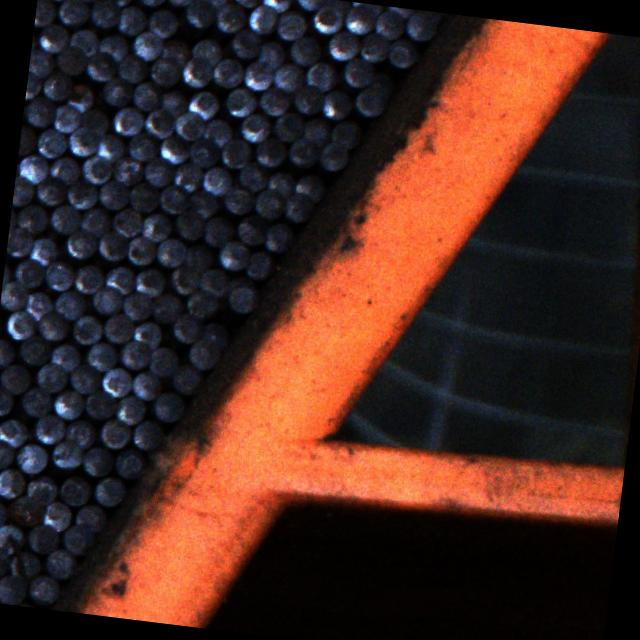tool: (361, 49, 414, 98), (59, 522, 97, 557), (372, 6, 408, 42), (324, 28, 362, 62), (113, 391, 149, 426), (263, 220, 298, 256), (8, 492, 44, 526), (58, 472, 94, 506), (111, 446, 147, 480), (63, 416, 99, 450), (52, 288, 88, 322), (200, 212, 234, 248), (219, 134, 253, 170), (23, 94, 57, 130), (38, 67, 74, 101), (185, 86, 221, 120), (353, 84, 389, 118), (114, 2, 150, 36), (402, 9, 438, 43), (50, 386, 84, 421), (152, 388, 186, 423), (3, 306, 38, 340), (286, 135, 321, 169), (317, 138, 351, 173), (96, 416, 132, 449), (63, 227, 99, 260), (320, 84, 353, 120), (229, 26, 262, 62), (18, 384, 52, 418), (70, 312, 104, 346), (102, 262, 136, 296), (80, 151, 114, 185), (340, 55, 374, 89), (129, 28, 163, 62), (289, 34, 323, 68), (343, 2, 377, 36), (93, 473, 128, 506), (120, 288, 153, 323), (78, 204, 113, 237), (85, 48, 118, 83), (130, 418, 166, 450), (200, 164, 236, 196), (276, 6, 308, 42), (26, 571, 59, 605), (43, 547, 77, 580), (81, 444, 114, 478), (32, 412, 66, 445), (34, 359, 68, 392), (68, 361, 102, 394), (16, 333, 50, 366), (118, 338, 152, 371), (146, 343, 179, 377), (36, 308, 70, 341), (186, 336, 220, 369), (13, 254, 46, 288), (72, 262, 106, 295), (14, 202, 48, 235), (47, 152, 80, 186), (34, 125, 68, 158), (254, 134, 288, 167), (142, 105, 176, 138), (202, 115, 236, 148), (331, 115, 365, 148), (115, 50, 148, 84), (148, 54, 182, 87), (180, 54, 213, 88), (255, 36, 288, 70), (25, 522, 60, 554), (24, 472, 59, 504), (48, 340, 83, 372), (183, 287, 218, 319), (251, 188, 286, 220), (126, 130, 161, 162), (133, 265, 169, 296), (224, 283, 260, 314), (131, 76, 162, 112), (15, 441, 48, 474), (48, 201, 81, 234), (65, 177, 98, 210), (239, 110, 272, 143), (292, 81, 325, 114), (358, 29, 391, 62), (0, 360, 32, 394), (172, 363, 206, 395), (150, 290, 182, 324), (168, 262, 202, 294), (245, 248, 277, 282), (34, 174, 68, 206), (96, 177, 130, 209), (127, 180, 161, 212), (110, 103, 144, 135), (100, 74, 132, 108), (54, 44, 88, 76), (304, 59, 338, 91), (388, 34, 420, 68), (188, 36, 224, 66), (49, 436, 82, 468), (101, 366, 134, 398), (86, 340, 119, 372), (102, 311, 134, 344), (170, 310, 203, 342), (154, 236, 187, 268), (183, 242, 216, 274), (110, 205, 143, 237), (172, 208, 204, 241), (235, 212, 268, 244), (222, 183, 254, 216), (171, 160, 203, 193), (158, 132, 191, 164), (224, 86, 257, 118), (242, 57, 274, 90), (246, 2, 279, 34), (125, 232, 156, 266), (256, 85, 290, 116), (98, 30, 132, 61), (146, 6, 180, 37), (310, 3, 344, 34), (7, 550, 42, 580), (66, 78, 95, 114), (181, 0, 218, 28), (40, 500, 72, 532), (83, 388, 115, 420), (96, 228, 128, 260), (217, 238, 249, 270), (140, 210, 172, 242), (159, 182, 191, 214), (16, 150, 48, 182), (141, 155, 173, 187), (66, 124, 98, 156), (52, 102, 84, 134), (272, 110, 304, 142), (301, 114, 333, 146), (215, 1, 247, 33), (131, 367, 162, 400), (210, 56, 243, 87), (74, 502, 108, 532), (44, 258, 74, 292), (293, 172, 327, 202), (130, 317, 162, 348), (200, 320, 231, 352), (27, 233, 59, 264), (188, 188, 220, 219), (173, 110, 204, 142), (68, 25, 100, 56), (90, 284, 123, 314), (235, 160, 268, 190), (188, 136, 221, 166), (37, 22, 70, 52), (284, 190, 314, 222), (112, 156, 144, 186), (272, 60, 304, 90), (0, 278, 28, 312), (0, 571, 27, 606), (95, 130, 126, 160), (55, 0, 90, 26), (24, 288, 54, 318), (160, 34, 190, 64), (0, 414, 28, 446), (6, 225, 33, 258), (200, 266, 229, 295), (158, 87, 187, 116), (80, 106, 110, 134), (89, 0, 119, 28), (28, 46, 54, 78), (266, 169, 294, 198), (0, 466, 25, 498), (0, 520, 24, 553), (228, 271, 258, 295), (12, 176, 34, 208), (18, 124, 38, 158), (33, 0, 55, 27), (351, 1, 384, 18), (0, 383, 16, 417), (0, 336, 16, 370), (24, 69, 41, 101), (0, 436, 15, 469), (260, 0, 293, 12), (323, 0, 351, 14), (415, 10, 445, 23), (0, 544, 10, 577), (295, 0, 323, 11), (230, 0, 262, 8), (0, 496, 7, 530), (195, 0, 231, 6), (165, 0, 196, 6)
